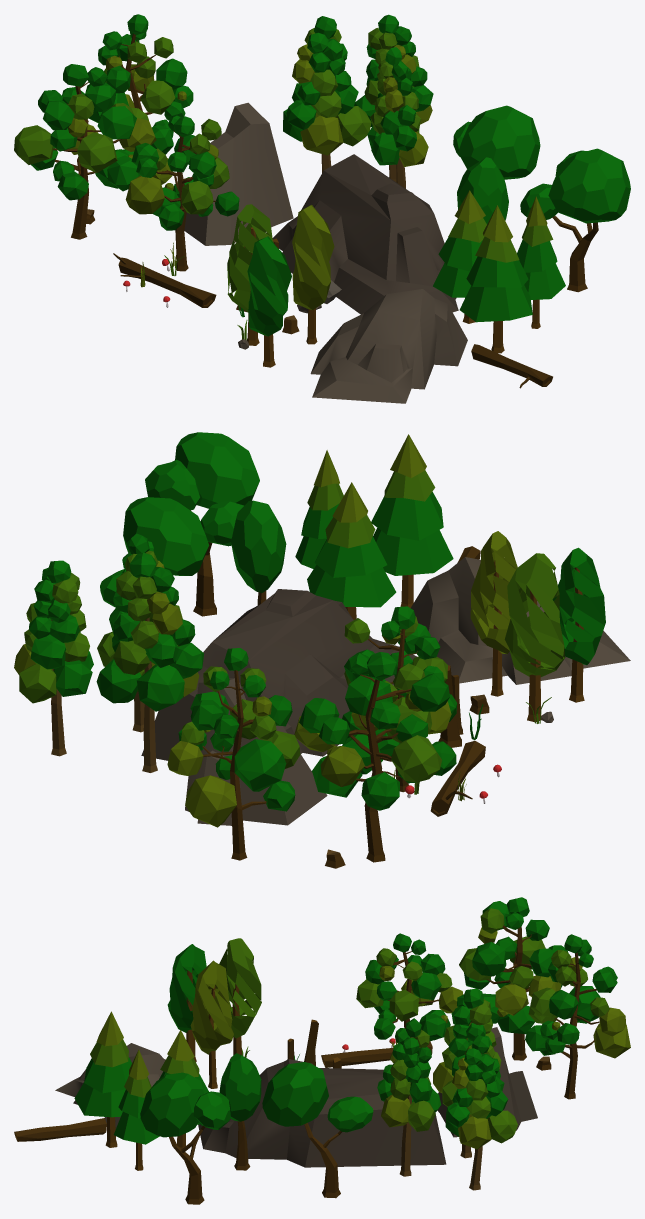
File: lowpoly_forest.glb
The picture shows the model from 3 angles, top to bottom: view 1: azimuth 30°, elevation 25°; view 2: azimuth 150°, elevation 25°; view 3: azimuth 270°, elevation 25°; orthographic projection. The views are drawn at different scales.
Parts seen in each view (by area): view 1: Big_rock_1_06 - Default_0, Big_rock_2_06 - Default_0, Tree_4_2, Tree_4_1, Tree_3_2, Big_rock_3_06 - Default_0, Tree_2_1, Tree_4_3, Tree_1_2, Tree_3_1, Tree_2_3, Tree_5_3 (+8 smaller); view 2: Tree_4_2, Big_rock_1_06 - Default_0, Tree_4_3, Tree_3_2, Tree_2_1, Tree_3_3, Big_rock_2_06 - Default_0, Tree_1_2, Tree_1_1, Tree_5_2, Tree_4_1, Tree_2_3 (+7 smaller); view 3: Big_rock_1_06 - Default_0, Tree_4_2, Tree_4_3, Tree_4_1, Tree_3_3, Tree_2_3, Tree_3_1, Tree_2_1, Tree_1_2, Tree_3_2, Tree_5_3, Tree_5_2 (+8 smaller).
Part boxes in pixels (<box>): Big_rock_1_06 - Default_0: <box>272,154,458,314</box>; Big_rock_2_06 - Default_0: <box>310,289,467,403</box>; Tree_4_2: <box>14,64,156,239</box>; Tree_4_1: <box>125,115,239,271</box>; Tree_3_2: <box>283,16,371,172</box>; Big_rock_3_06 - Default_0: <box>184,102,293,245</box>; Tree_2_1: <box>520,148,630,292</box>; Tree_4_3: <box>88,14,193,154</box>; Tree_1_2: <box>459,205,532,353</box>; Tree_3_1: <box>367,47,428,188</box>; Tree_2_3: <box>453,105,540,179</box>; Tree_5_3: <box>292,205,334,344</box>; Tree_4_2: <box>294,652,456,862</box>; Big_rock_1_06 - Default_0: <box>141,589,416,760</box>; Tree_4_3: <box>167,648,300,860</box>; Tree_3_2: <box>96,552,204,772</box>; Tree_2_1: <box>145,432,259,616</box>; Tree_3_3: <box>14,560,93,756</box>; Big_rock_2_06 - Default_0: <box>411,557,630,684</box>; Tree_1_2: <box>371,434,453,607</box>; Tree_1_1: <box>307,482,396,619</box>; Tree_5_2: <box>504,553,565,721</box>; Tree_4_1: <box>342,606,457,792</box>; Tree_2_3: <box>100,497,209,606</box>; Big_rock_1_06 - Default_0: <box>198,1059,446,1167</box>; Tree_4_2: <box>459,897,568,1060</box>; Tree_4_3: <box>525,934,630,1099</box>; Tree_4_1: <box>356,933,463,1041</box>; Tree_3_3: <box>445,1035,517,1190</box>; Tree_2_3: <box>262,1062,373,1198</box>; Tree_3_1: <box>377,1018,441,1176</box>; Tree_2_1: <box>140,1072,230,1204</box>; Tree_1_2: <box>74,1011,131,1147</box>; Tree_3_2: <box>433,988,504,1158</box>; Tree_5_3: <box>190,960,233,1088</box>; Tree_5_2: <box>219,938,261,1055</box>.
Size of the model in its own units: 3.84 by 1.62 by 5.35.
1 material, 1 textured.
